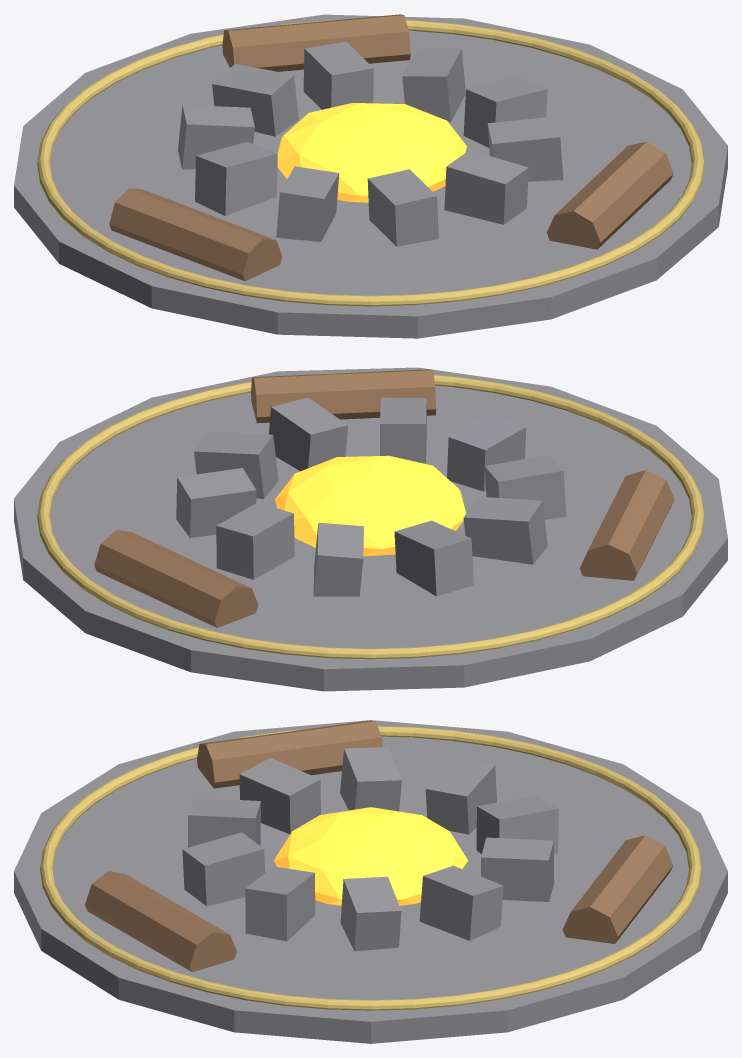
Rendered from hearth.glb.
3 views of the same model, one above another, from view 1: azimuth 30°, elevation 25°; view 2: azimuth 150°, elevation 25°; view 3: azimuth 270°, elevation 25° (orthographic).
Parts seen in each view (by area): view 1: hearth-hero; view 2: hearth-hero; view 3: hearth-hero.
Boxes of the visible parts, x1,y1,x2,y2 form: hearth-hero: [14, 14, 727, 338]; hearth-hero: [14, 367, 727, 691]; hearth-hero: [14, 720, 727, 1043].
Bounding box in the file's own units: 4.4 × 0.4828 × 4.4.
